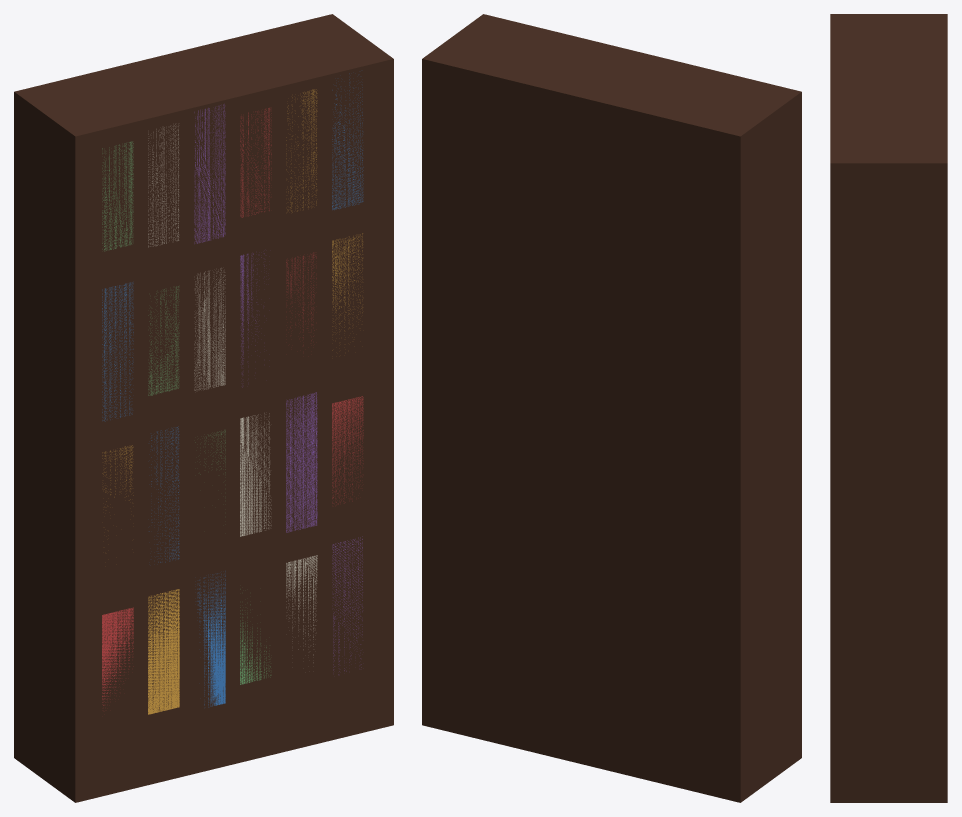
File: bookshelf.glb
3 views of the same model, side by side, from view 1: azimuth 30°, elevation 25°; view 2: azimuth 150°, elevation 25°; view 3: azimuth 270°, elevation 25° (orthographic). The views are drawn at different scales.
Visible parts, largest first — view 1: shelf_body, book.001, book.010, book.009, book.020, book.002, book.014, book, book.011, book.018, book.012, book.023 (+7 smaller); view 2: shelf_body; view 3: shelf_body.
Boxes of the visible parts, x1,y1,x2,y2 form: shelf_body: [14, 14, 393, 802]; book.001: [148, 589, 179, 714]; book.010: [286, 392, 317, 532]; book.009: [240, 413, 271, 536]; book.020: [194, 104, 225, 243]; book.002: [197, 571, 225, 707]; book.014: [194, 268, 225, 390]; book: [102, 607, 133, 705]; book.011: [332, 396, 363, 504]; book.018: [102, 141, 133, 251]; book.012: [102, 282, 133, 421]; book.023: [332, 73, 363, 209]; shelf_body: [422, 14, 801, 802]; shelf_body: [830, 14, 947, 802].
Bounding box in the file's own units: 0.9 × 1.8 × 0.3.
